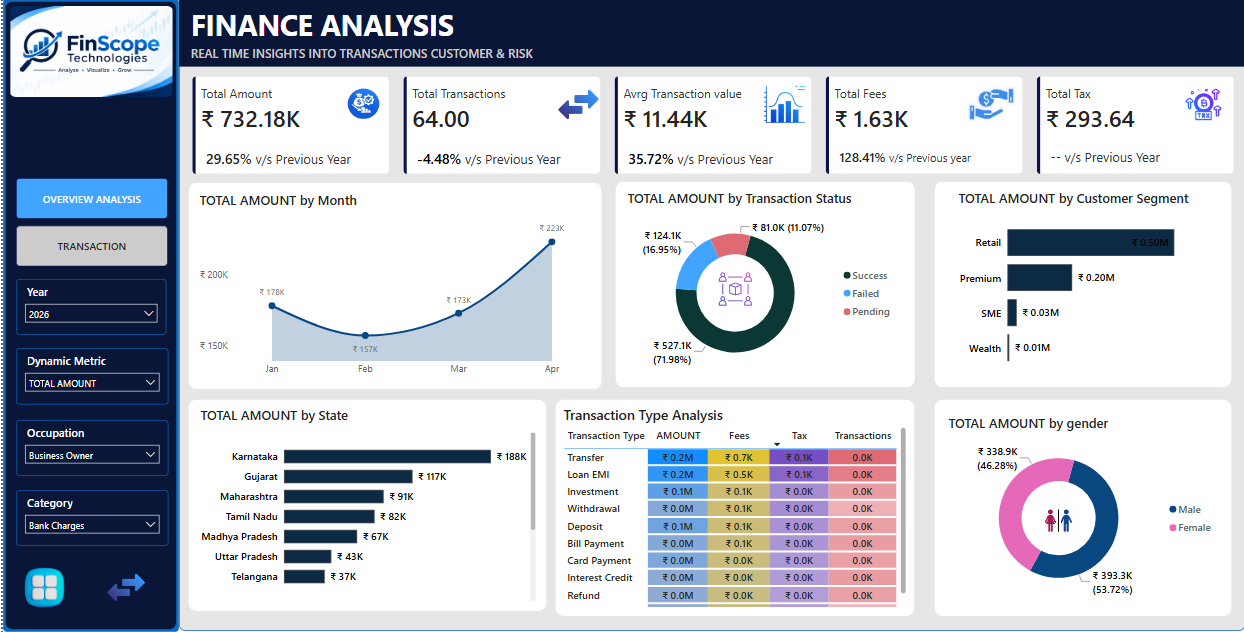

The page's visual inventory and layout, read from the dashboard file:
{"tool":"powerbi","page":{"name":"OVERVIEW ANALYSIS","canvas":[1800,951],"ordinal":0},"visuals":[{"type":"shape","box":[0,18.2,254.7,917],"z":0},{"type":"shape","box":[254.7,19.4,1545.3,915.8],"z":1000},{"type":"cardVisual","fields":{"Data":["finance_transactions.Dashboard title"]},"box":[254.7,19.4,1545.3,98.2],"z":2000},{"type":"cardVisual","fields":{"Data":["finance_transactions.TOTAL AMOUNT","finance_transactions.Total Transactions","finance_transactions.Avrg Transaction value","finance_transactions.Total Fees","finance_transactions.Total Tax"]},"box":[268.1,124.9,1522.2,154],"z":3000},{"type":"slicer","fields":{"Values":["calender table.year"]},"box":[18.2,424.5,218.3,81.3],"z":4000},{"type":"image","box":[488.3,140.9,68.4,61.6],"z":5000},{"type":"image","box":[800.2,140.9,68.4,61.6],"z":6000},{"type":"image","box":[1399.2,140.9,68.4,61.6],"z":7000},{"type":"image","box":[1098.3,140.9,68.4,61.6],"z":8000},{"type":"image","box":[1705.6,140.9,68.4,61.6],"z":9000},{"type":"slicer","fields":{"Values":["Dynamic Metric.Dynamic Metric"]},"box":[18.2,525.2,220.8,82.5],"z":10000},{"type":"shape","box":[268.1,283.8,600.4,300.8],"z":11000},{"type":"areaChart","fields":{"Category":["calender table.month"],"Y":["finance_transactions.TOTAL AMOUNT"]},"box":[280.2,297.2,574.9,276.5],"z":12000},{"type":"shape","box":[886.7,282.6,435.4,299.6],"z":14000},{"type":"donutChart","fields":{"Category":["finance_transactions.transaction_status"],"Y":["finance_transactions.TOTAL AMOUNT"]},"box":[900,294.7,400.3,276.5],"z":15000},{"type":"shape","box":[1348.8,282.6,431.8,299.6],"z":16000},{"type":"barChart","fields":{"Category":["customers.customer_segment"],"Y":["finance_transactions.TOTAL AMOUNT"]},"box":[1380.3,294.7,384.5,276.5],"z":17000},{"type":"shape","box":[268.1,597.9,520,308],"z":18000},{"type":"barChart","fields":{"Category":["customers.state"],"Y":["finance_transactions.TOTAL AMOUNT"]},"box":[280.7,608,495.9,288.3],"z":19000},{"type":"shape","box":[800.5,598,521.6,315.4],"z":20000},{"type":"tableEx","title":"Transaction Type Analysis","fields":{"Values":["finance_transactions.transaction_type","finance_transactions.TOTAL AMOUNT","finance_transactions.Total Fees","finance_transactions.Total Tax","finance_transactions.Total Transactions"]},"box":[807.8,607.7,507,298.4],"z":21000},{"type":"shape","box":[1348.8,598,431.8,315.4],"z":22000},{"type":"donutChart","fields":{"Category":["customers.gender"],"Y":["finance_transactions.TOTAL AMOUNT"]},"box":[1364.6,619.8,400.3,276.5],"z":23000},{"type":"image","box":[1033.4,413.6,56,52.2],"z":24000},{"type":"image","box":[1485.8,718.1,87.3,105.5],"z":25000},{"type":"slicer","fields":{"Values":["customers.occupation"]},"box":[18.2,628.3,220.8,81.3],"z":26000},{"type":"slicer","fields":{"Values":["finance_transactions.merchant_category"]},"box":[18.2,730.2,220.8,81.3],"z":27000},{"type":"pageNavigator","box":[18.2,279,220.8,129.8],"z":28000},{"type":"image","box":[26.7,838.1,67.9,67.9],"z":29000},{"type":"image","box":[8.5,29.1,238.9,132.2],"z":29001},{"type":"image","box":[149.2,838.1,58.2,67.9],"z":29002}]}

Visuals, with their boxes on the page's 1800x951 design canvas (x1, y1, x2, y2). These are canvas units, not pixel positions in the 1244x632 screenshot, which may show the page scaled, cropped or inside an application window:
shape: 0, 18, 255, 935
shape: 255, 19, 1800, 935
cardVisual - finance_transactions.Dashboard title: 255, 19, 1800, 118
cardVisual - finance_transactions.TOTAL AMOUNT x finance_transactions.Total Transactions: 268, 125, 1790, 279
slicer - calender table.year: 18, 424, 236, 506
image: 488, 141, 557, 202
image: 800, 141, 869, 202
image: 1399, 141, 1468, 202
image: 1098, 141, 1167, 202
image: 1706, 141, 1774, 202
slicer - Dynamic Metric.Dynamic Metric: 18, 525, 239, 608
shape: 268, 284, 868, 585
areaChart - calender table.month x finance_transactions.TOTAL AMOUNT: 280, 297, 855, 574
shape: 887, 283, 1322, 582
donutChart - finance_transactions.transaction_status x finance_transactions.TOTAL AMOUNT: 900, 295, 1300, 571
shape: 1349, 283, 1781, 582
barChart - customers.customer_segment x finance_transactions.TOTAL AMOUNT: 1380, 295, 1765, 571
shape: 268, 598, 788, 906
barChart - customers.state x finance_transactions.TOTAL AMOUNT: 281, 608, 777, 896
shape: 800, 598, 1322, 913
"Transaction Type Analysis" tableEx: 808, 608, 1315, 906
shape: 1349, 598, 1781, 913
donutChart - customers.gender x finance_transactions.TOTAL AMOUNT: 1365, 620, 1765, 896
image: 1033, 414, 1089, 466
image: 1486, 718, 1573, 824
slicer - customers.occupation: 18, 628, 239, 710
slicer - finance_transactions.merchant_category: 18, 730, 239, 812
pageNavigator: 18, 279, 239, 409
image: 27, 838, 95, 906
image: 8, 29, 247, 161
image: 149, 838, 207, 906
